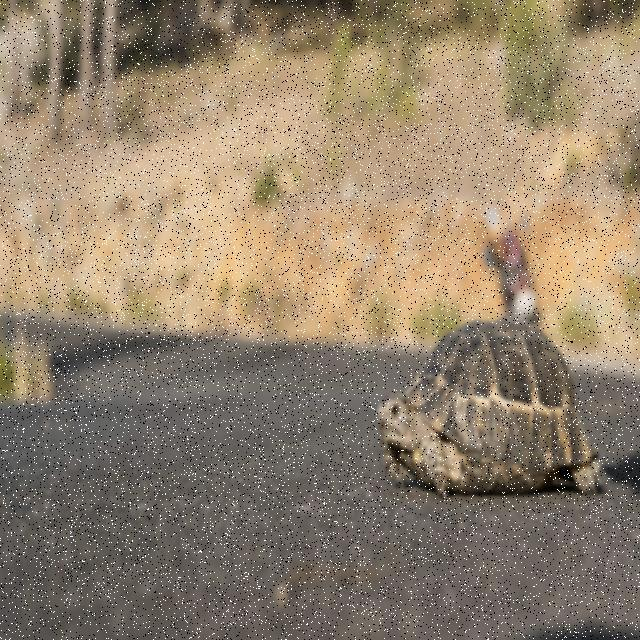tortoise: (366, 301, 622, 513)
